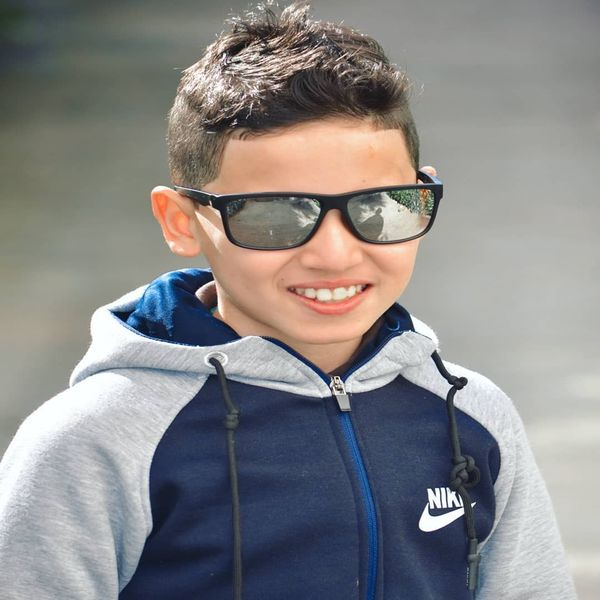nike: (417, 483, 478, 533)
